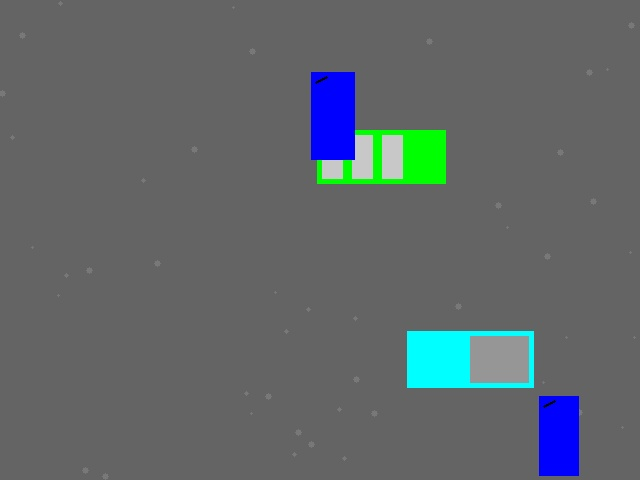bus: (317, 130, 445, 183)
motorcycle: (311, 72, 354, 159), (539, 396, 578, 475)
truck: (407, 331, 533, 387)
